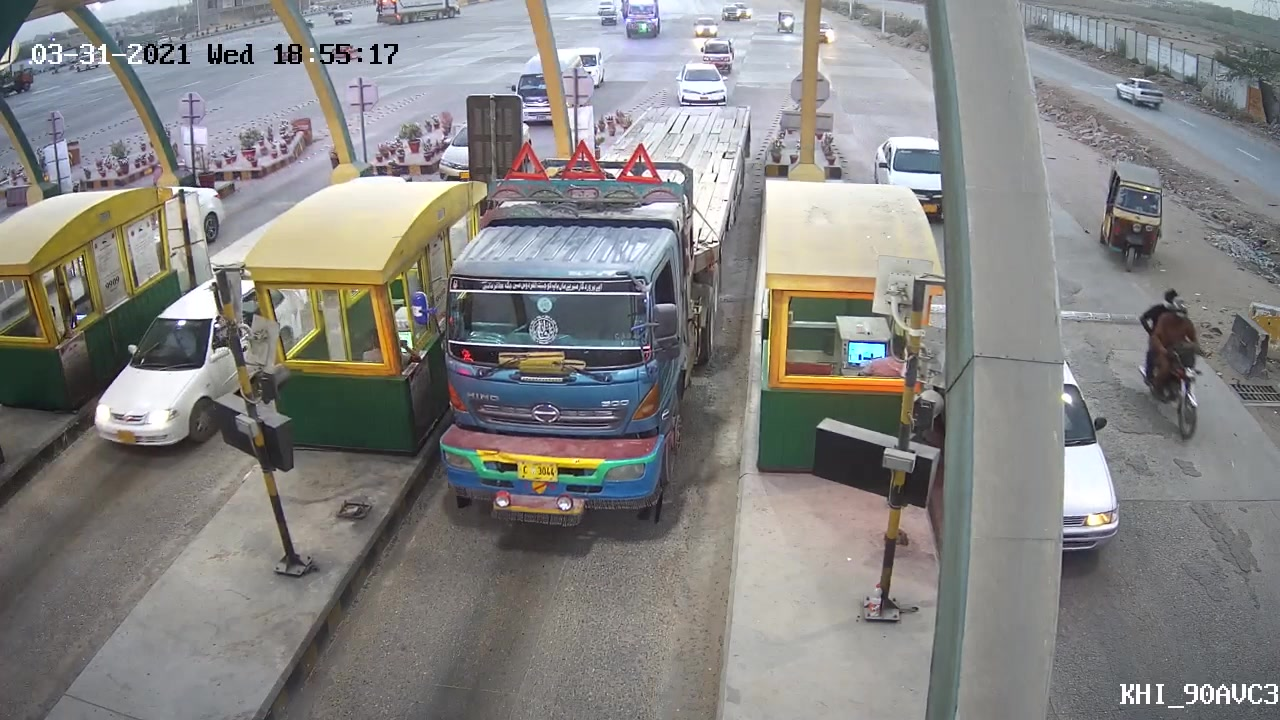F6: (410, 107, 749, 536)
